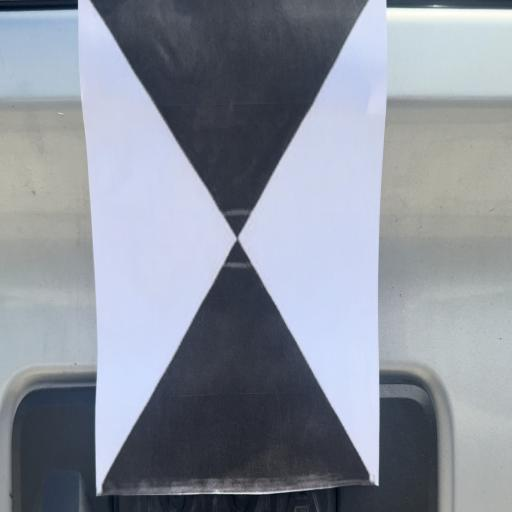target: (94, 2, 381, 488)
